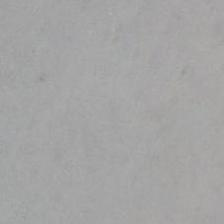Non_Crack: (20, 33, 214, 185)
